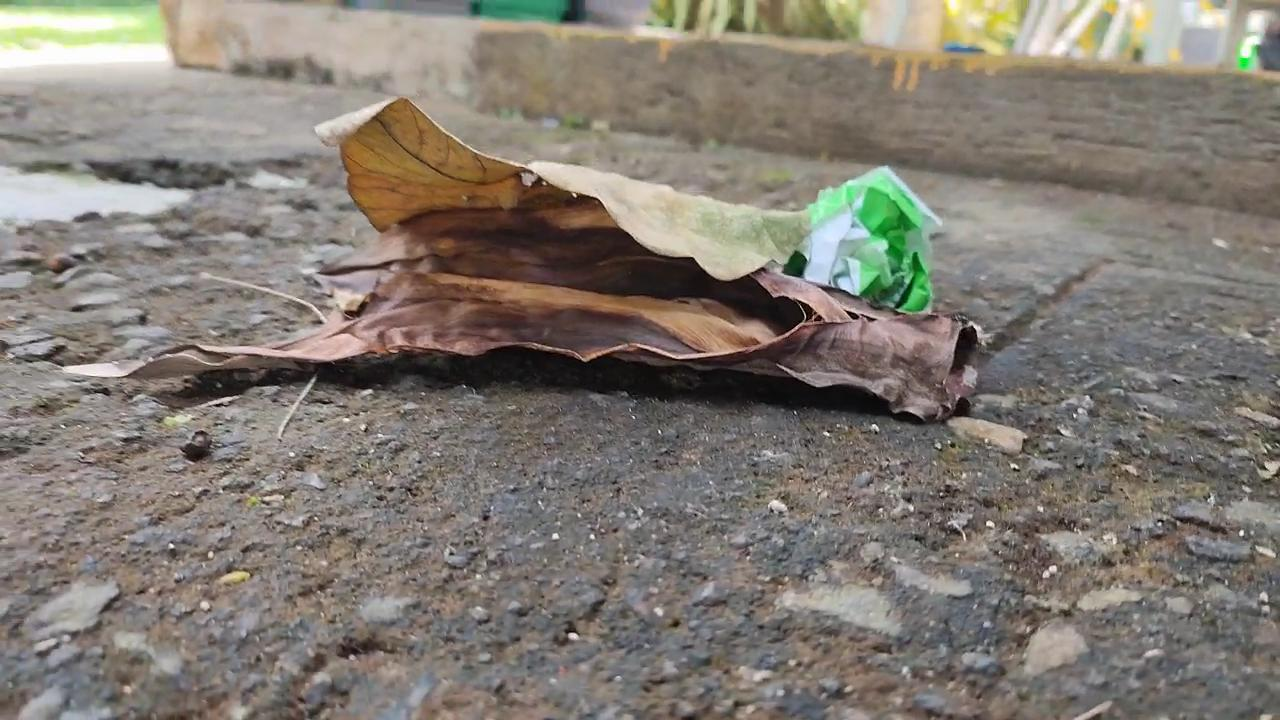Paper: (793, 149, 942, 320)
